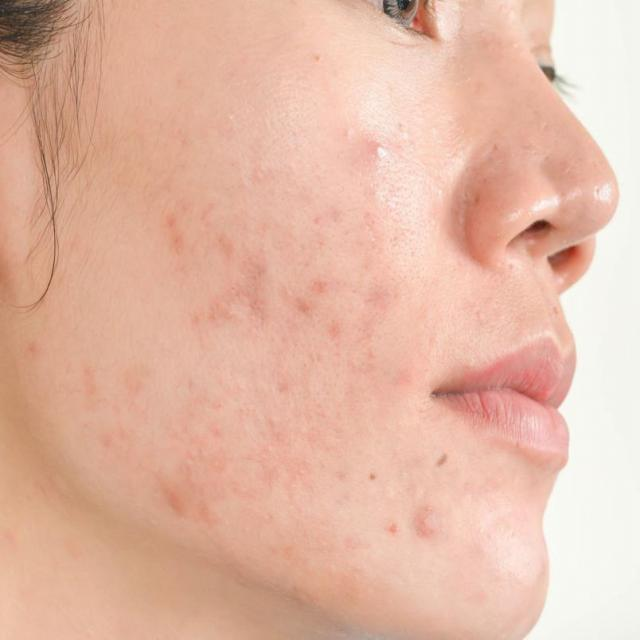blackheads: (299, 268, 331, 317), (411, 501, 442, 546), (166, 210, 184, 256), (368, 138, 386, 165), (384, 516, 400, 536), (436, 448, 449, 472)
